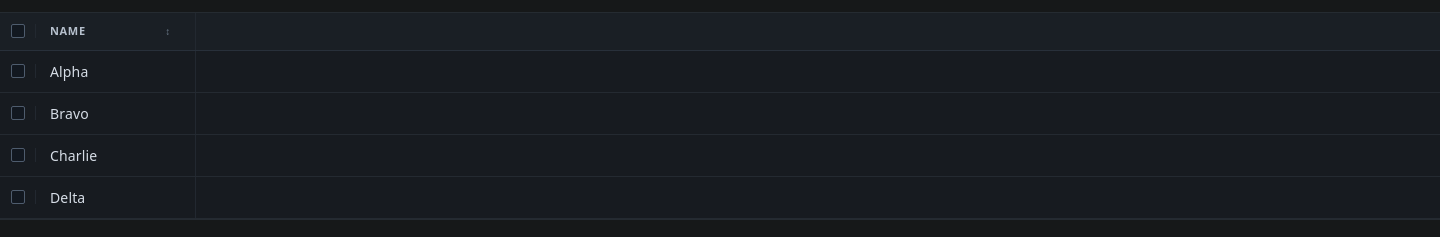
Test case: SchemaDataTable row selection › selects a visible range when shift-clicking row checkboxes
Click the checkbox next to "Alpha".
click(18, 71)  # box 10,64 -> 24,78
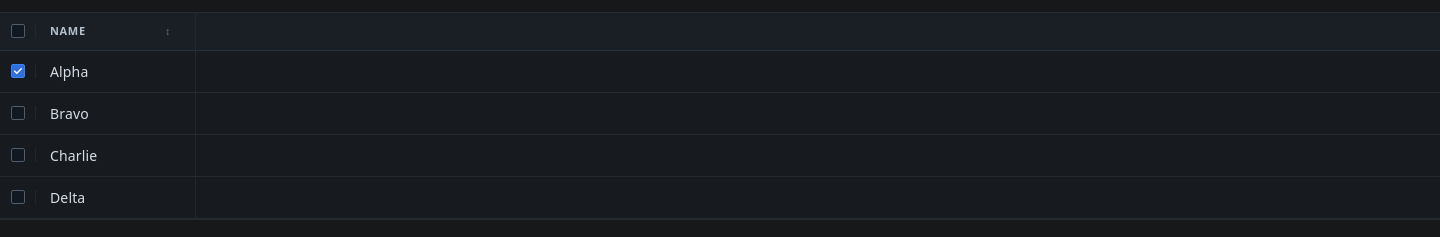
Click the checkbox next to "Charlie".
click(18, 155)  # box 10,148 -> 24,162
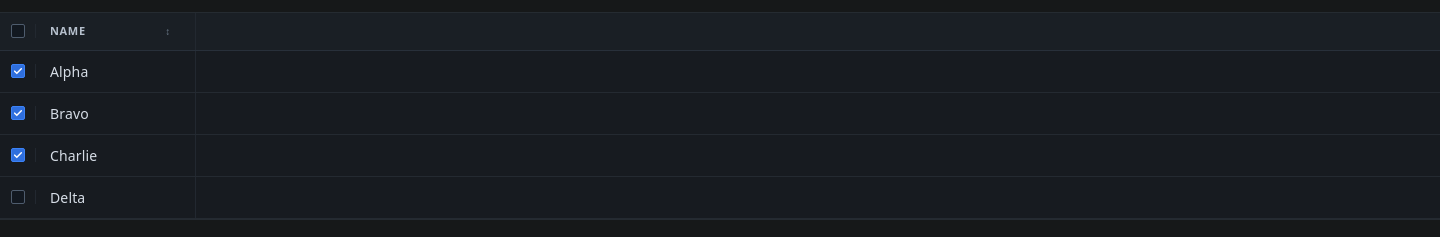
Expected: the checkbox next to "Alpha" is checked, 10,64 -> 24,78
Expected: the checkbox next to "Charlie" is checked, 10,148 -> 24,162
Expected: the checkbox next to "Bravo" is checked, 10,106 -> 24,120
